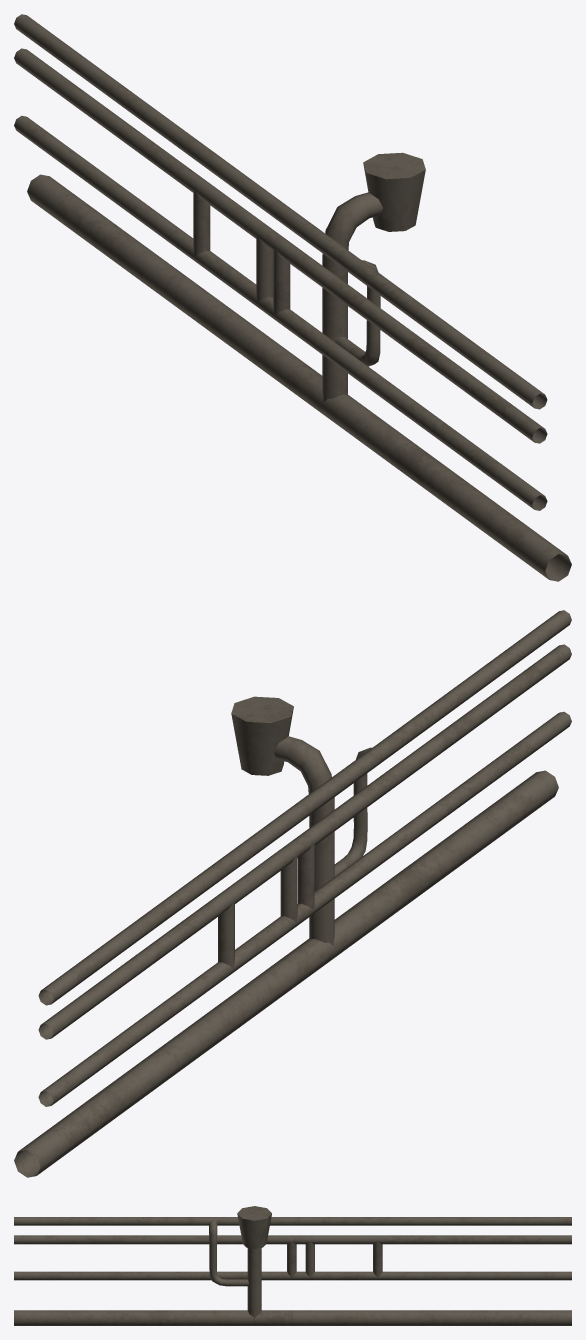
Rendered from BathroomPipes.fbx.
3 renders of one model, top to bottom at view 1: azimuth 30°, elevation 25°; view 2: azimuth 150°, elevation 25°; view 3: azimuth 270°, elevation 25°, orthographic. The views are drawn at different scales.
Visible parts, largest first — view 1: Cylinder.007; view 2: Cylinder.007; view 3: Cylinder.007.
Part boxes in pixels (x1,y1,x2,y2): Cylinder.007: (14, 14, 571, 581); Cylinder.007: (14, 610, 571, 1177); Cylinder.007: (14, 1206, 571, 1325).
Bounding box in the file's own units: 42.02 × 83.79 × 331.
Materials: 1 (1 with a texture image).
